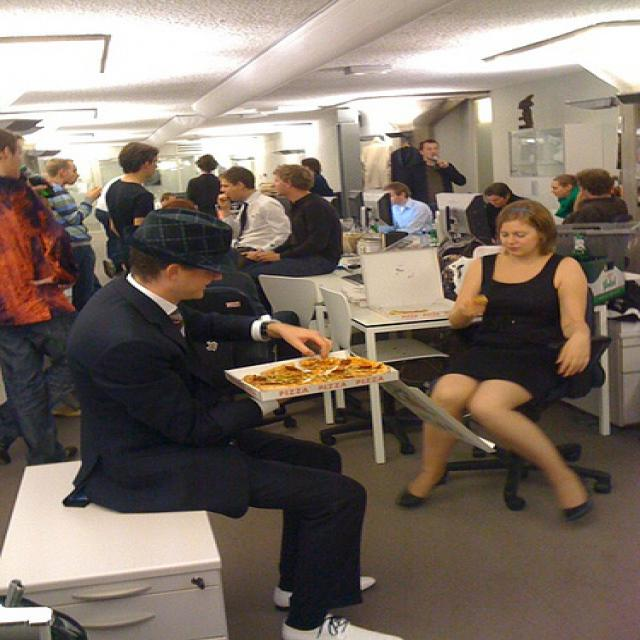chair: (438, 338, 613, 511), (319, 338, 449, 454), (320, 287, 370, 361), (259, 276, 321, 329), (275, 392, 325, 415)
dining table: (299, 266, 450, 465)
